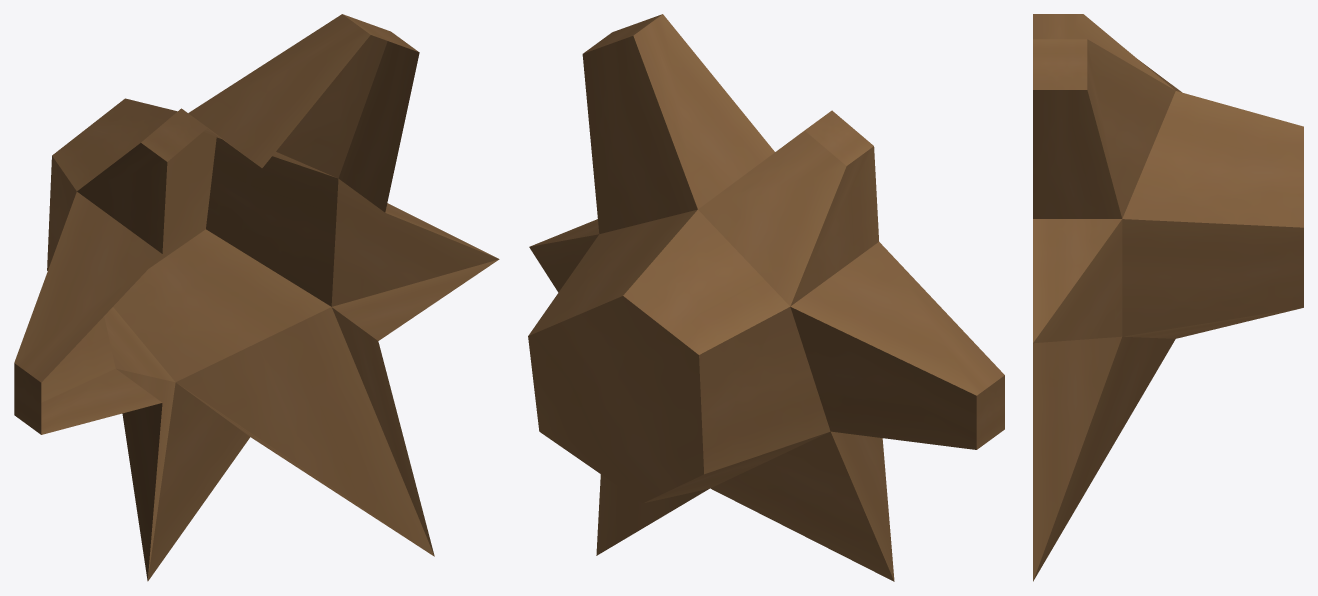
File: dead_tree_body_3.fbx
3 renders of one model, left to right at view 1: azimuth 30°, elevation 25°; view 2: azimuth 150°, elevation 25°; view 3: azimuth 270°, elevation 25°, orthographic. The views are drawn at different scales.
Parts seen in each view (by area): view 1: Cylinder.014; view 2: Cylinder.014; view 3: Cylinder.014.
Boxes of the visible parts, box(x1,y1,x2,y2) form: Cylinder.014: box(14, 14, 499, 581); Cylinder.014: box(528, 14, 1004, 581); Cylinder.014: box(1033, 14, 1303, 581).
Bounding box in the file's own units: 323 × 362 × 173.
